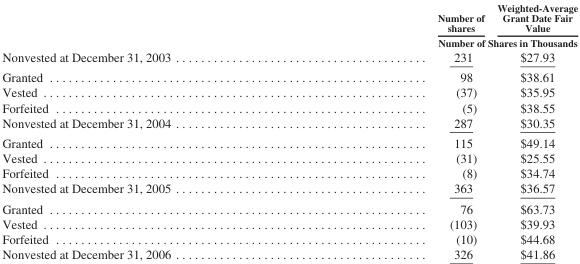table: (1, 1, 577, 260)
table column: (1, 1, 303, 260), (303, 1, 490, 260), (490, 1, 577, 260)
table column header: (1, 1, 577, 48)
table row: (1, 1, 577, 34), (1, 48, 577, 66), (1, 66, 577, 84), (1, 114, 577, 132), (1, 132, 577, 150), (1, 180, 577, 198), (1, 198, 577, 215), (1, 215, 577, 231), (1, 84, 577, 99), (1, 99, 577, 114), (1, 150, 577, 165), (1, 165, 577, 180), (1, 231, 577, 246), (1, 34, 577, 48), (1, 246, 577, 260)
table spanning cell: (303, 34, 577, 48)
